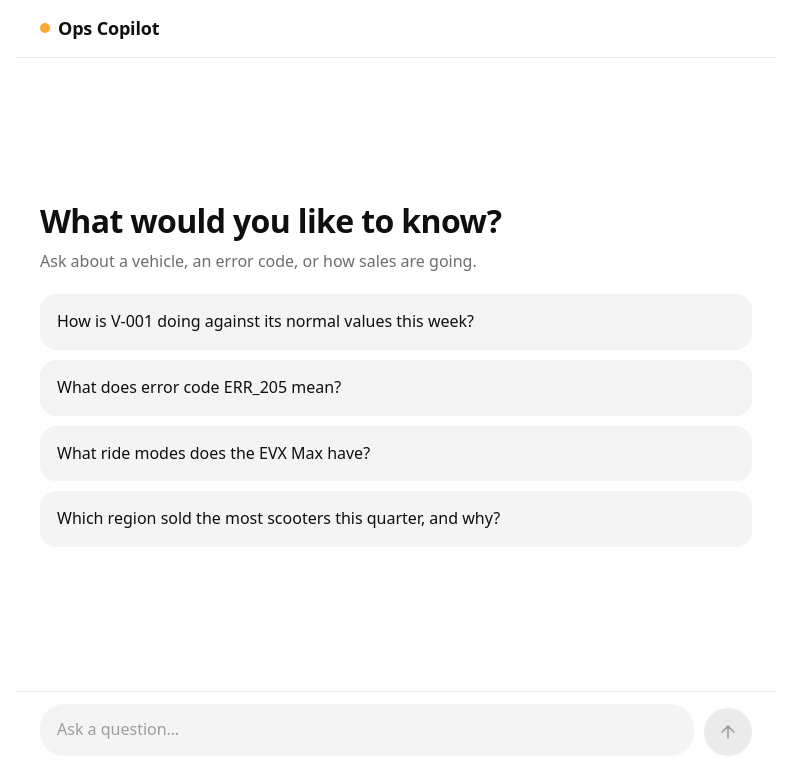
Test case: when something goes wrong › shows the error, offers a retry, and puts the question back in the input
The width and height of the screenshot is (793, 768).
Type "Why did range drop?" into the text box named "Your question" at (367,730), box x1=40 y1=704 x2=694 y2=756
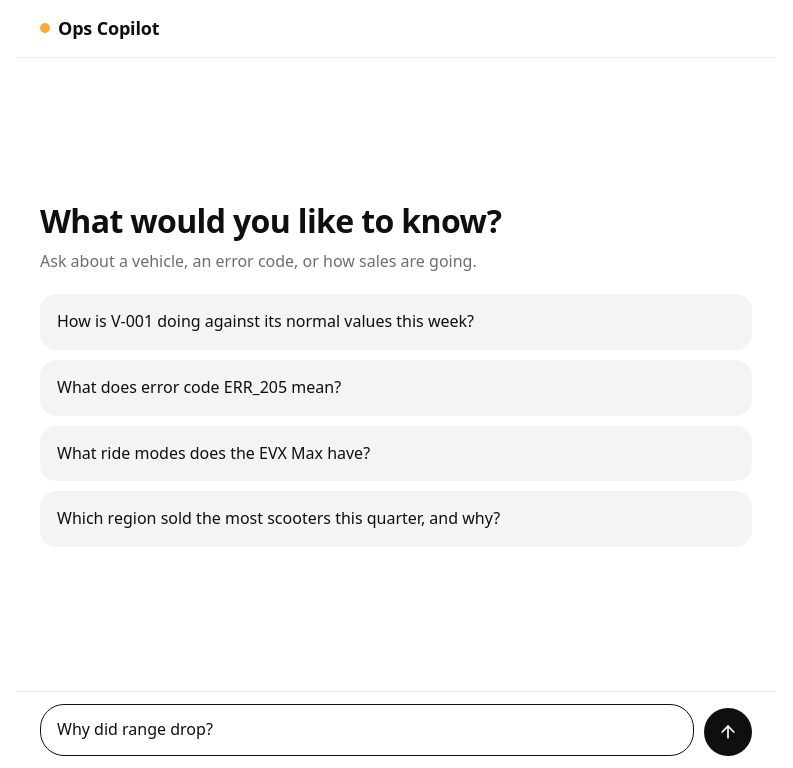
Click the button named "Send" at (728,732), box x1=704 y1=708 x2=752 y2=756
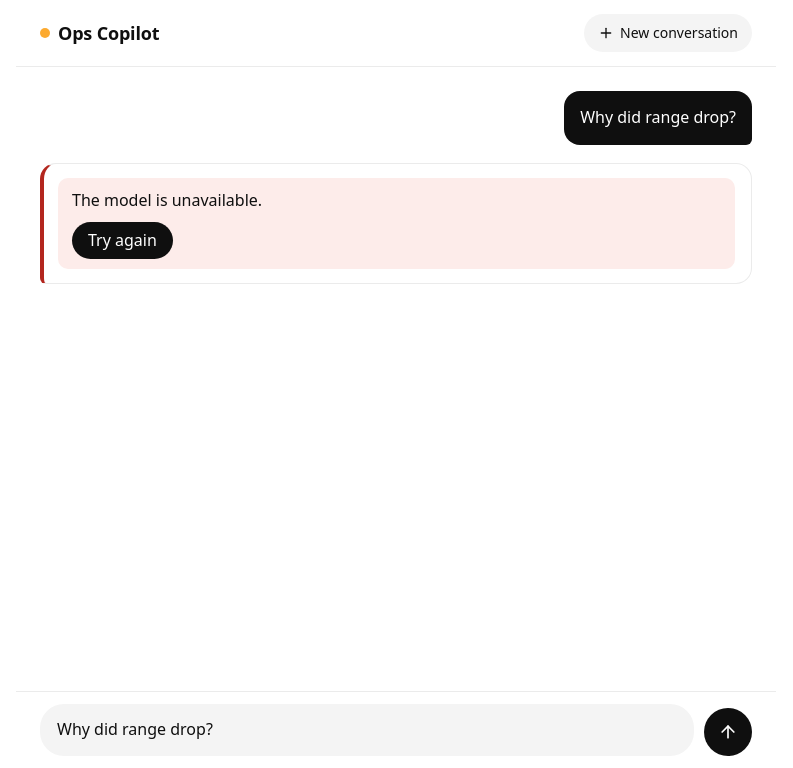
expect the message shows "The model is unavailable.": met, box x1=72 y1=189 x2=262 y2=211
expect the button "Try again" is shown: met, box x1=72 y1=222 x2=173 y2=259
